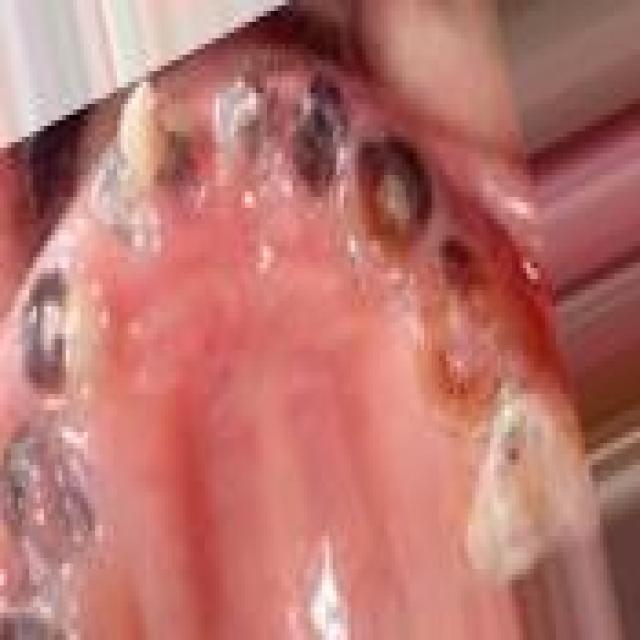caries: (455, 395, 588, 594), (0, 403, 106, 601), (405, 248, 501, 430), (6, 252, 102, 414), (342, 122, 436, 283), (97, 89, 186, 244), (280, 58, 348, 214), (203, 73, 281, 196)
